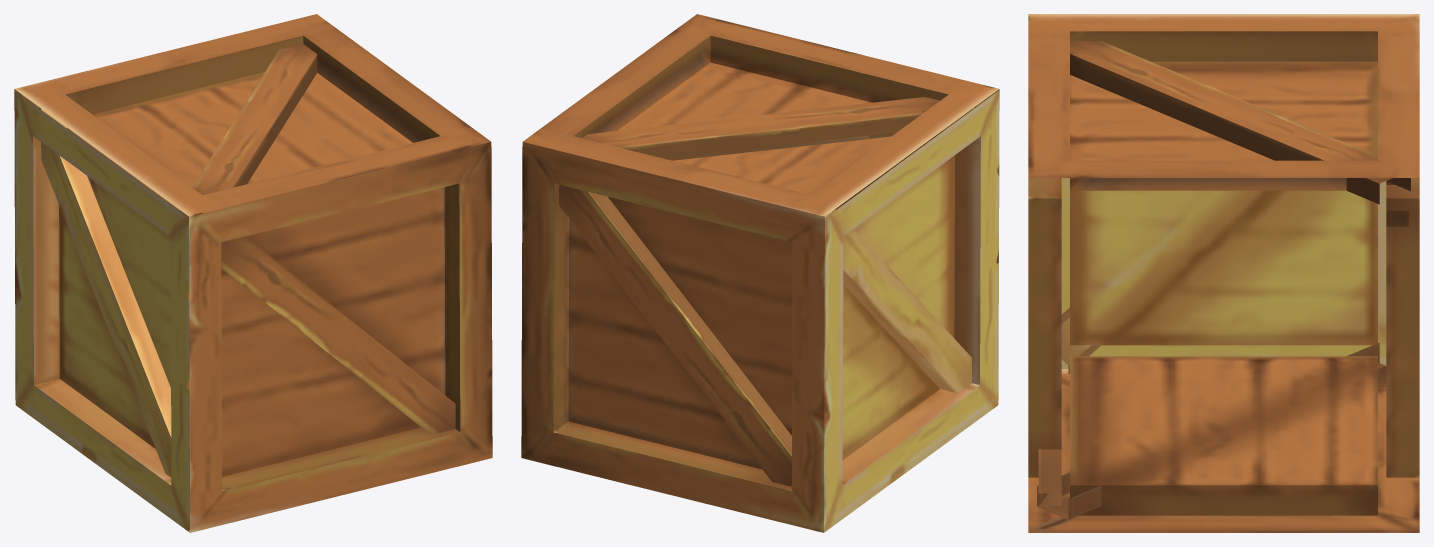
Rendered from woodbox.fbx.
The picture shows the model from 3 angles, left to right: view 1: azimuth 30°, elevation 25°; view 2: azimuth 150°, elevation 25°; view 3: azimuth 270°, elevation 25°; orthographic projection. The views are drawn at different scales.
Parts seen in each view (by area): view 1: woodbox; view 2: woodbox; view 3: woodbox.
Part boxes in pixels (x1=…): woodbox: x1=14, y1=14, x2=492, y2=532; woodbox: x1=521, y1=14, x2=999, y2=532; woodbox: x1=1028, y1=14, x2=1419, y2=532.
Bounding box in the file's own units: 38.77 × 38.77 × 38.63.
